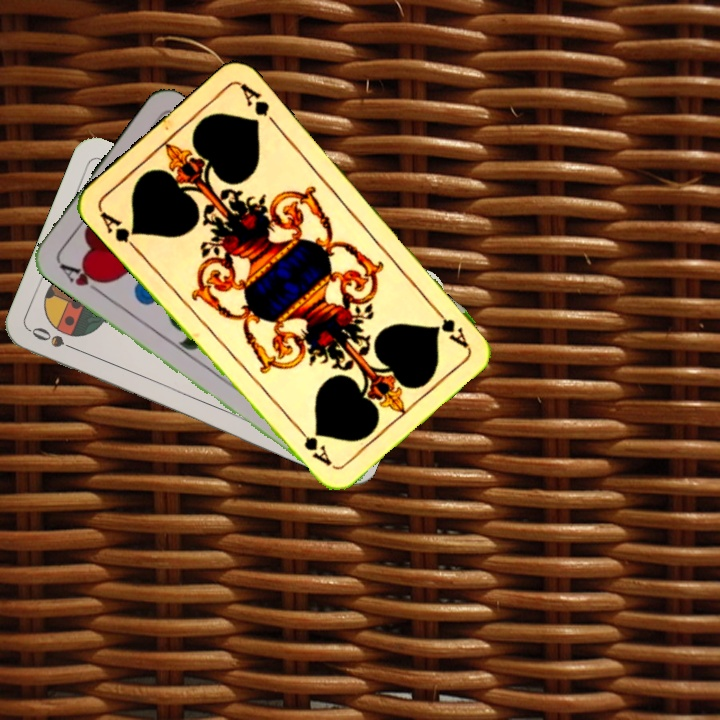GA: (95, 206, 141, 254), (427, 301, 471, 351)
HA: (55, 259, 109, 298)
SO: (27, 323, 84, 355)
